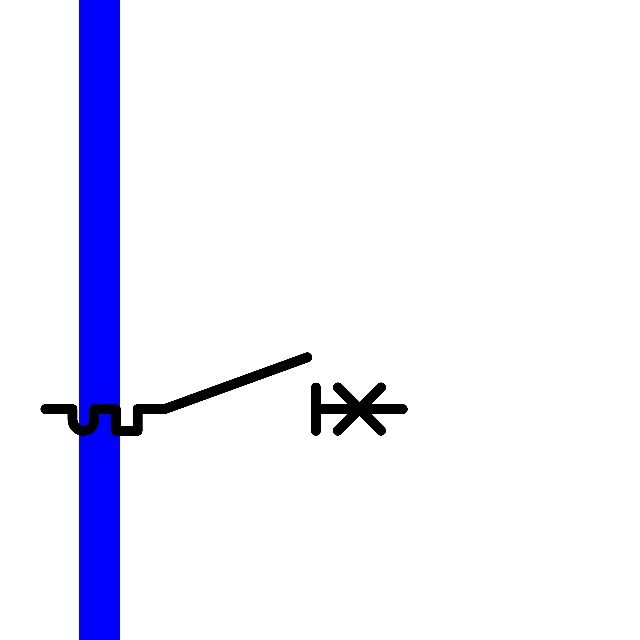interruptor_termomagnetico: (36, 348, 411, 440)
